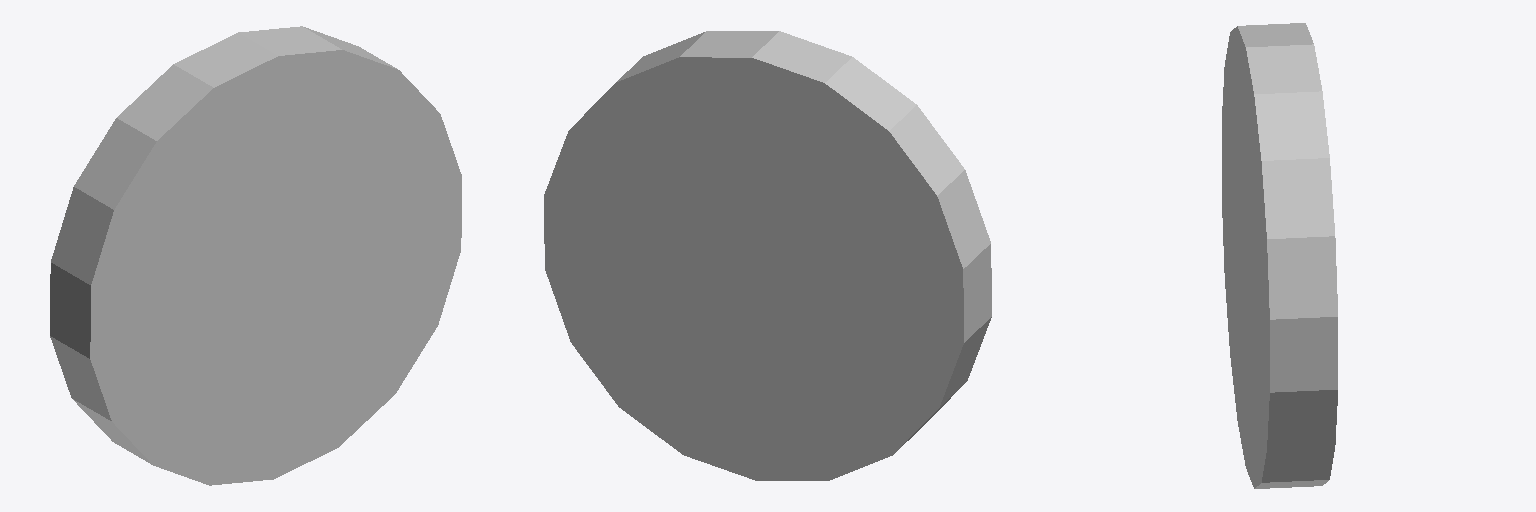
Rendered from coin10.obj.
The picture shows the model from 3 angles: view 1: azimuth 30°, elevation 25°; view 2: azimuth 150°, elevation 25°; view 3: azimuth 270°, elevation 25°; orthographic projection.
Parts seen in each view (by area): view 1: Cylinder001; view 2: Cylinder001; view 3: Cylinder001.
Boxes of the visible parts, box(x1,y1,x2,y2) form: Cylinder001: box(50, 26, 461, 485); Cylinder001: box(544, 31, 991, 480); Cylinder001: box(1222, 23, 1337, 488).
Bounding box in the file's own units: 2.85 × 2.86 × 0.716.